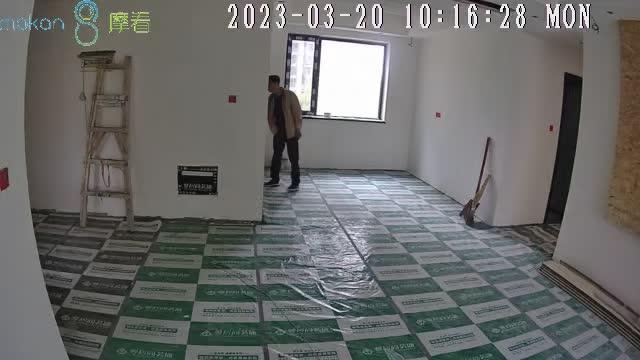people: (266, 74, 305, 193)
window: (285, 34, 388, 124)
